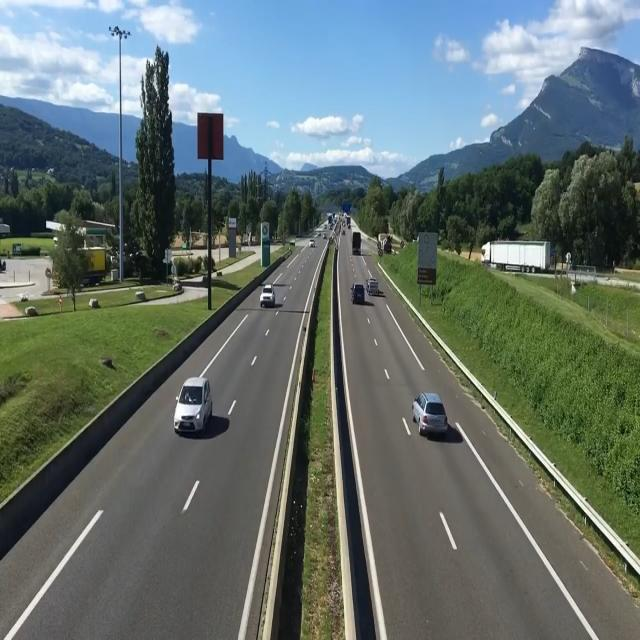car: (173, 372, 217, 440), (414, 388, 452, 443), (259, 280, 284, 308), (349, 281, 365, 308), (366, 274, 381, 297)
truck: (350, 229, 363, 256)
